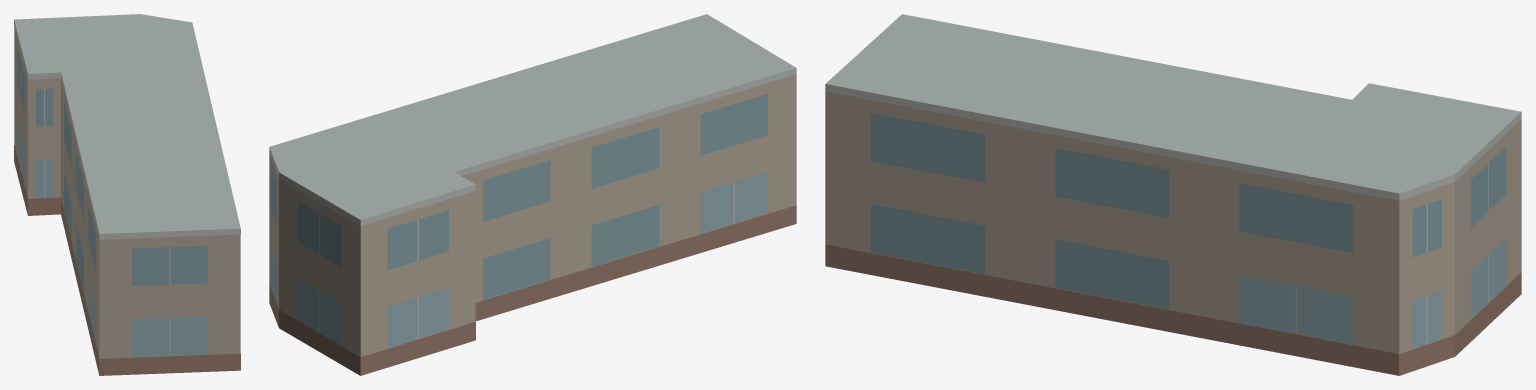
Rendered from survey-upis-32534723.glb.
3 renders of one model, left to right at view 1: azimuth 30°, elevation 25°; view 2: azimuth 150°, elevation 25°; view 3: azimuth 270°, elevation 25°, orthographic. The views are drawn at different scales.
Parts seen in each view (by area): view 1: survey-upis-32534723.tmp; view 2: survey-upis-32534723.tmp; view 3: survey-upis-32534723.tmp.
Boxes of the visible parts, x1,y1,x2,y2 form: survey-upis-32534723.tmp: (14,14,240,375); survey-upis-32534723.tmp: (269,14,796,375); survey-upis-32534723.tmp: (825,14,1521,375).
Size of the model in its own units: 12.69 by 6 by 20.78.
